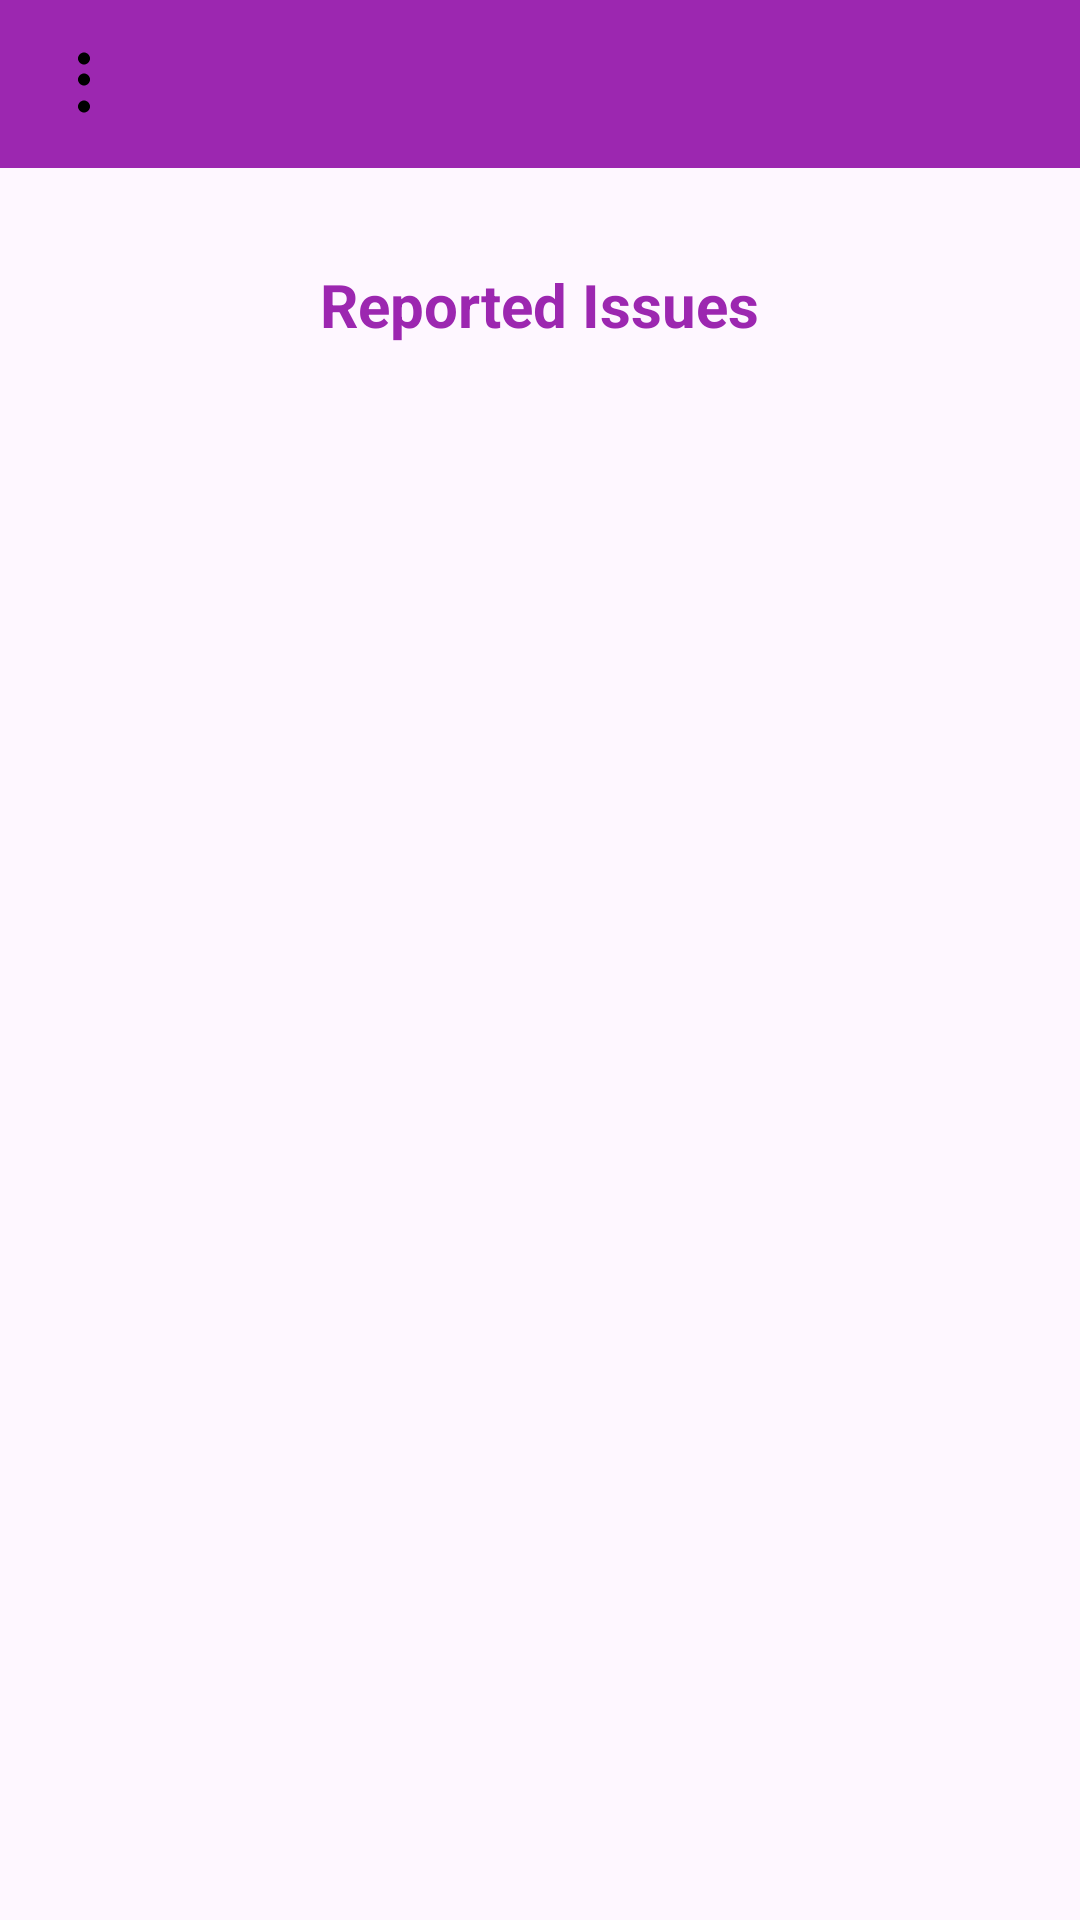

Icons on this 1080 x 1920 Android screen, each with its box as (x1, y1, x2, y2):
Three Dot Menu: (78, 52, 90, 113)
